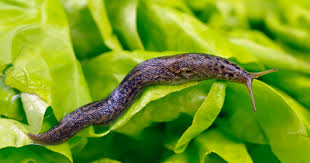slug: (29, 61, 278, 145)
